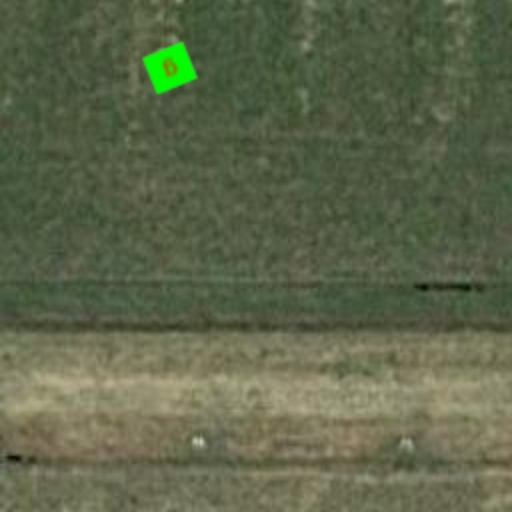rectangle: (140, 38, 200, 98)
